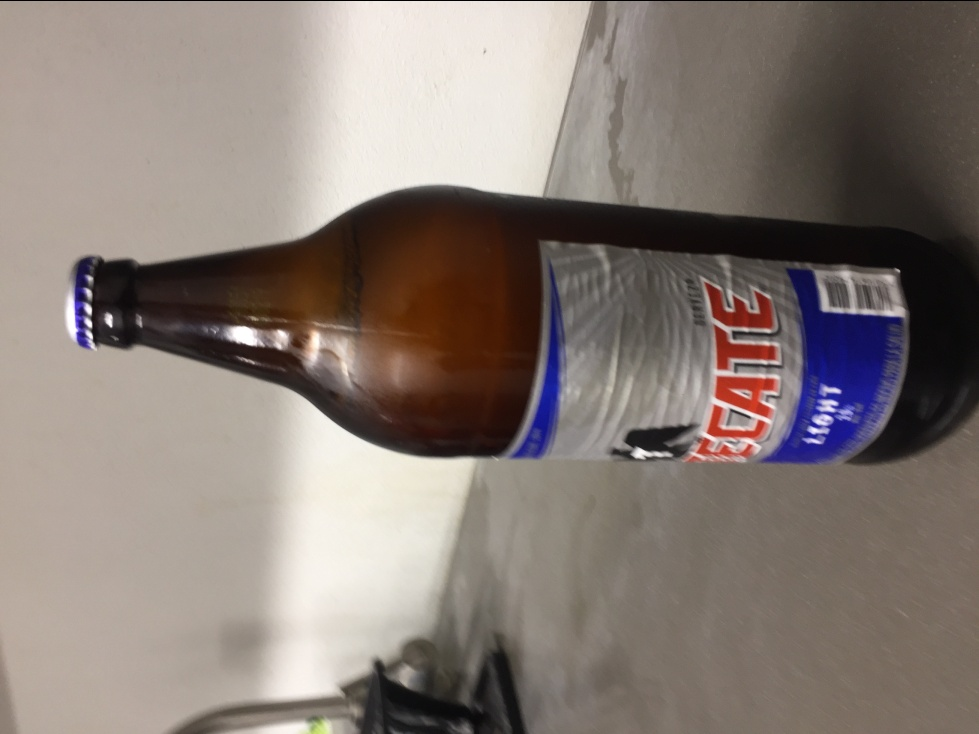tecateC: (58, 183, 979, 464)
